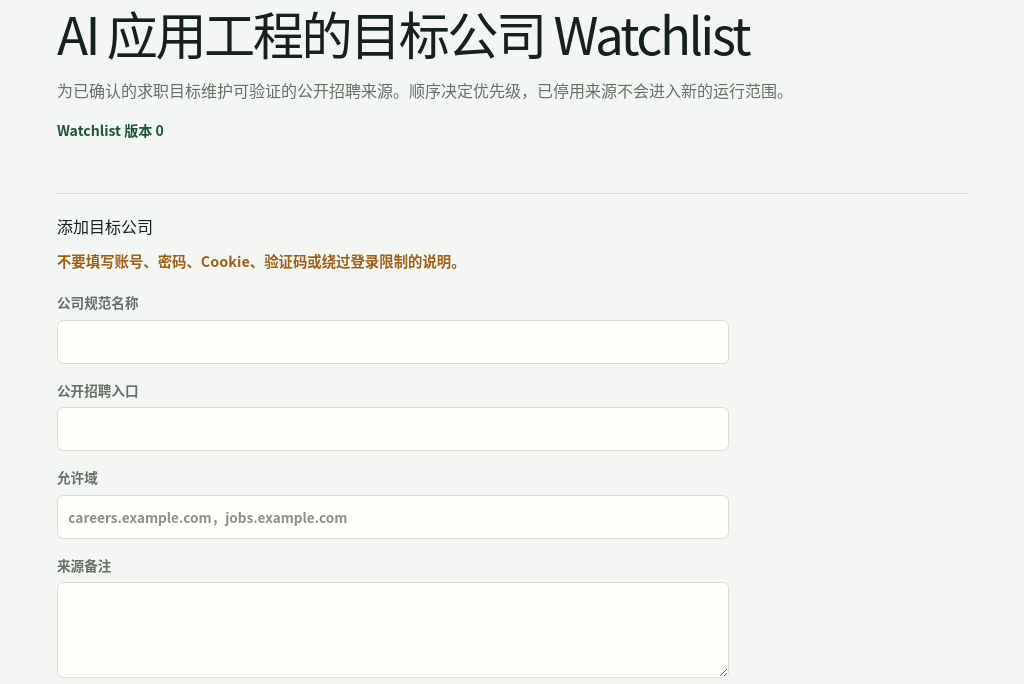
新增后仅使用已验证响应显示优先级和版本
Type "曙光云图" into the field labelled "公司规范名称" at (393, 342), box top-left (57, 320), bottom-right (729, 364)
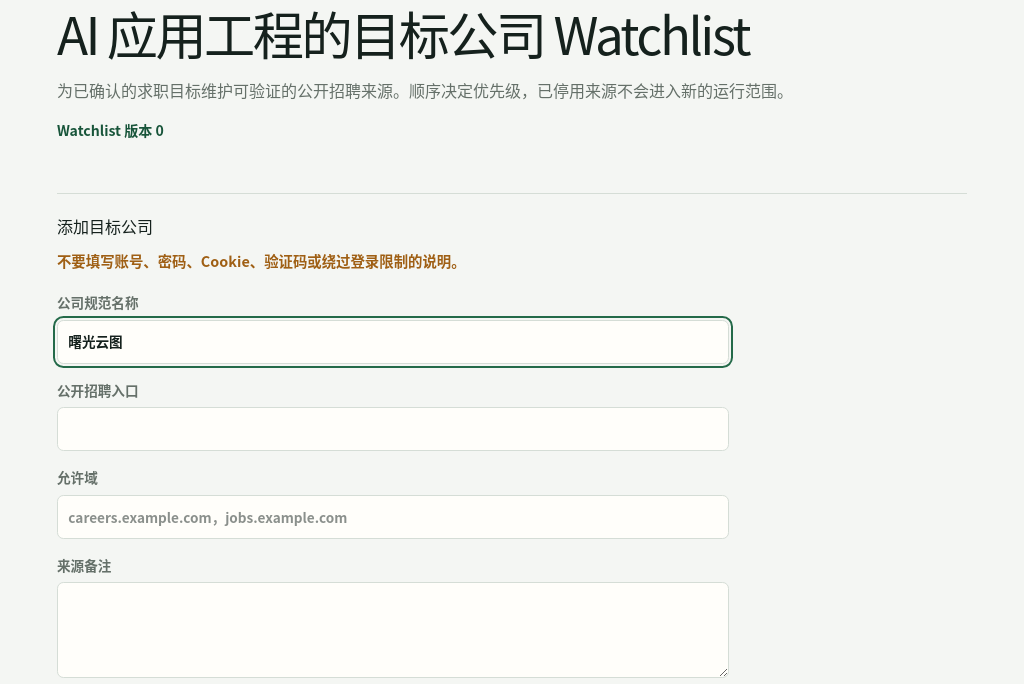
Type "https://careers.aurora.example/jobs" into the field labelled "公开招聘入口" at (393, 429), box top-left (57, 407), bottom-right (729, 451)
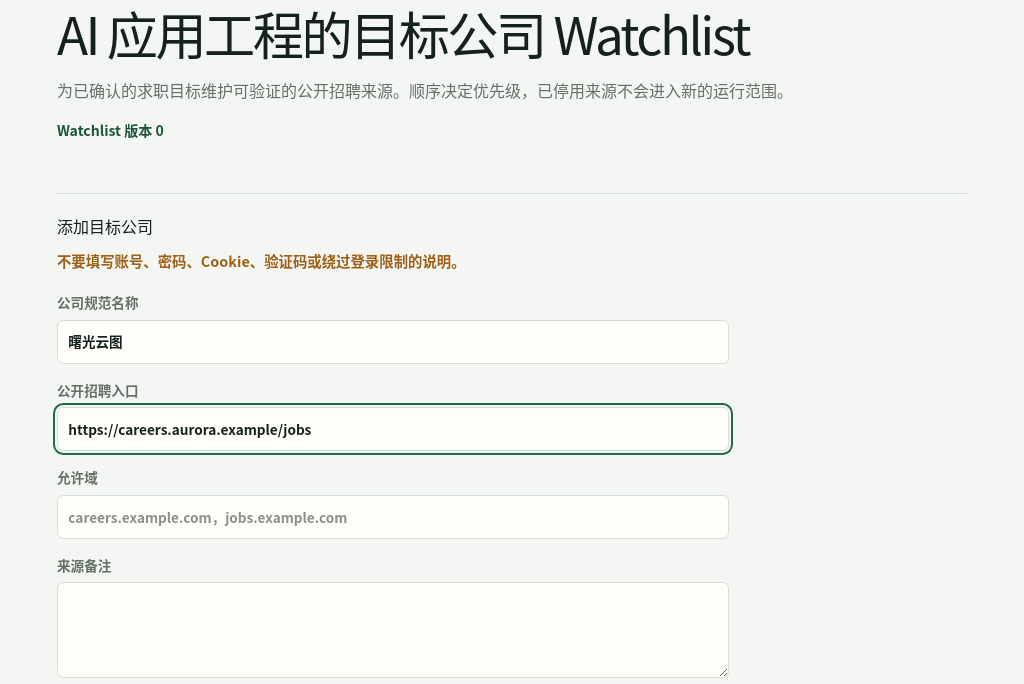
Type "careers.aurora.example" into the field labelled "允许域" at (393, 517), box top-left (57, 495), bottom-right (729, 539)
(page scrolled)
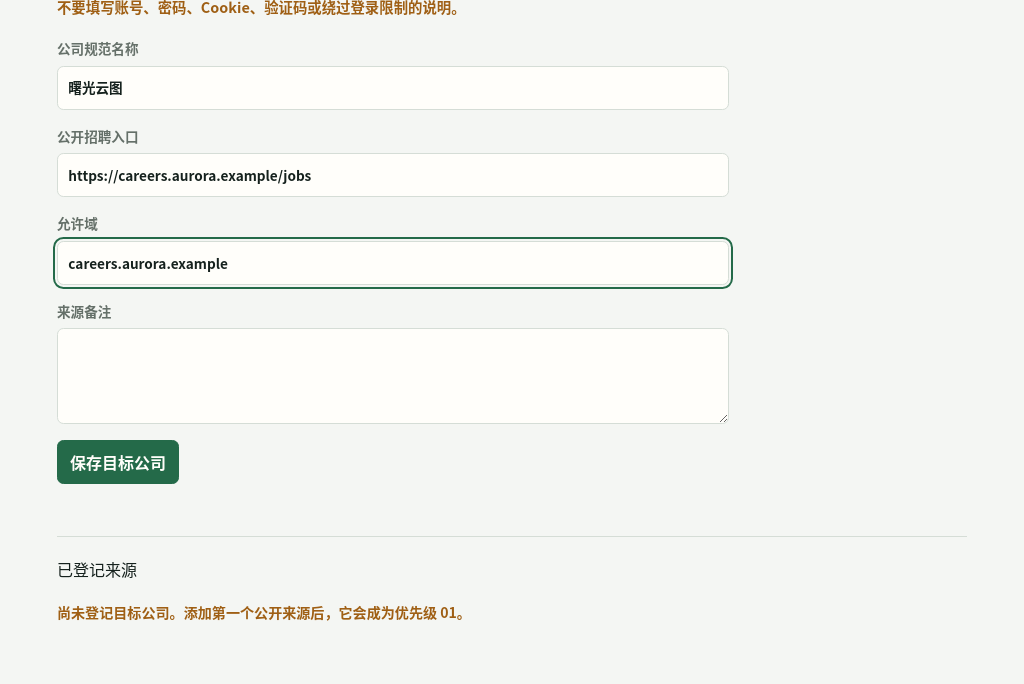
Click the button "保存目标公司" at (118, 462), box top-left (57, 440), bottom-right (179, 484)
(page scrolled)
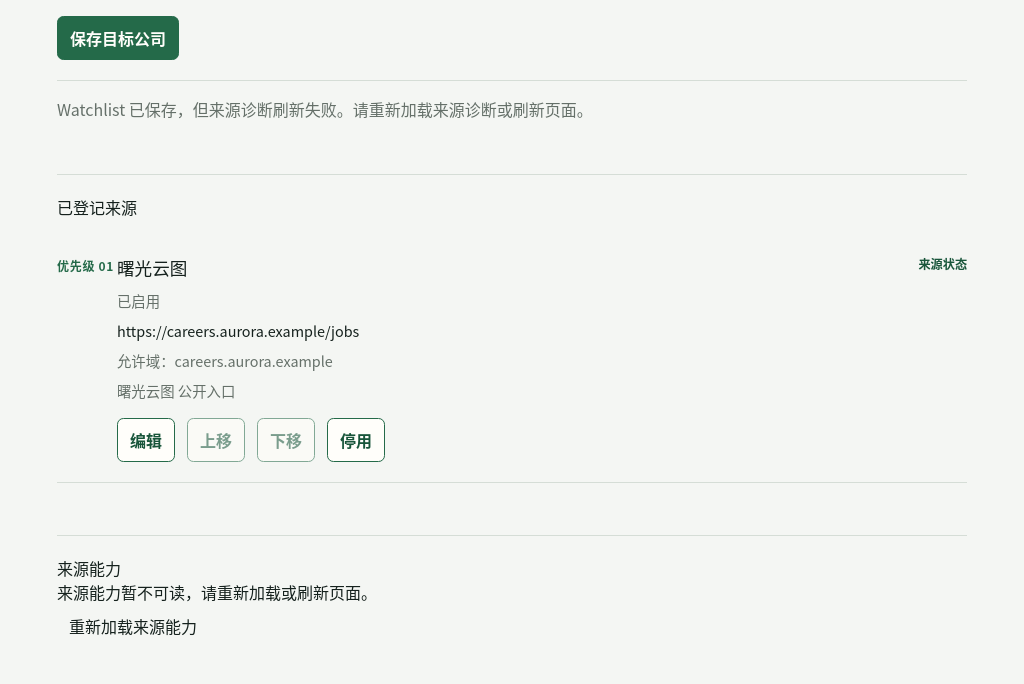
Expected: the text "优先级 01" is shown, top-left (57, 257), bottom-right (114, 275)
Expected: the text "已启用" is shown, top-left (117, 290), bottom-right (160, 311)
